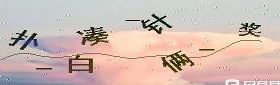chinese: (76, 24, 112, 51), (158, 47, 192, 71), (61, 52, 95, 75), (139, 14, 171, 37), (11, 30, 43, 48), (238, 19, 263, 42)
